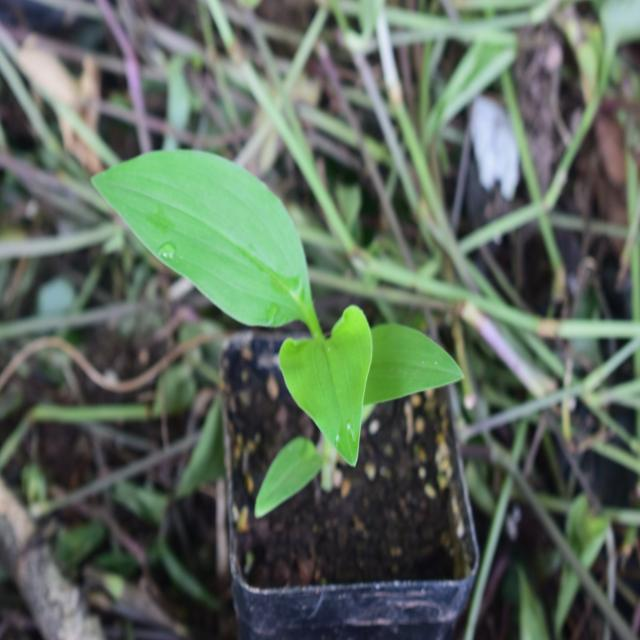Common Dayflower: (98, 134, 430, 483)
